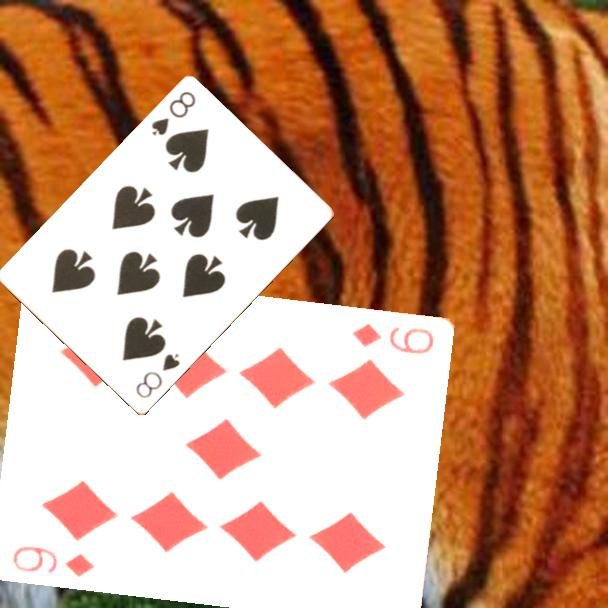d09: (10, 542, 98, 580), (349, 320, 437, 357)
s08: (132, 350, 183, 402), (148, 88, 199, 139)
